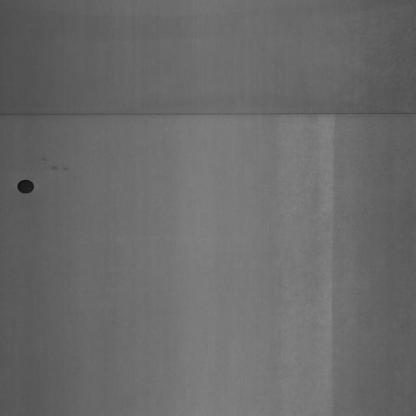punching_hole: (16, 173, 36, 201)
welding_line: (3, 102, 414, 127)
